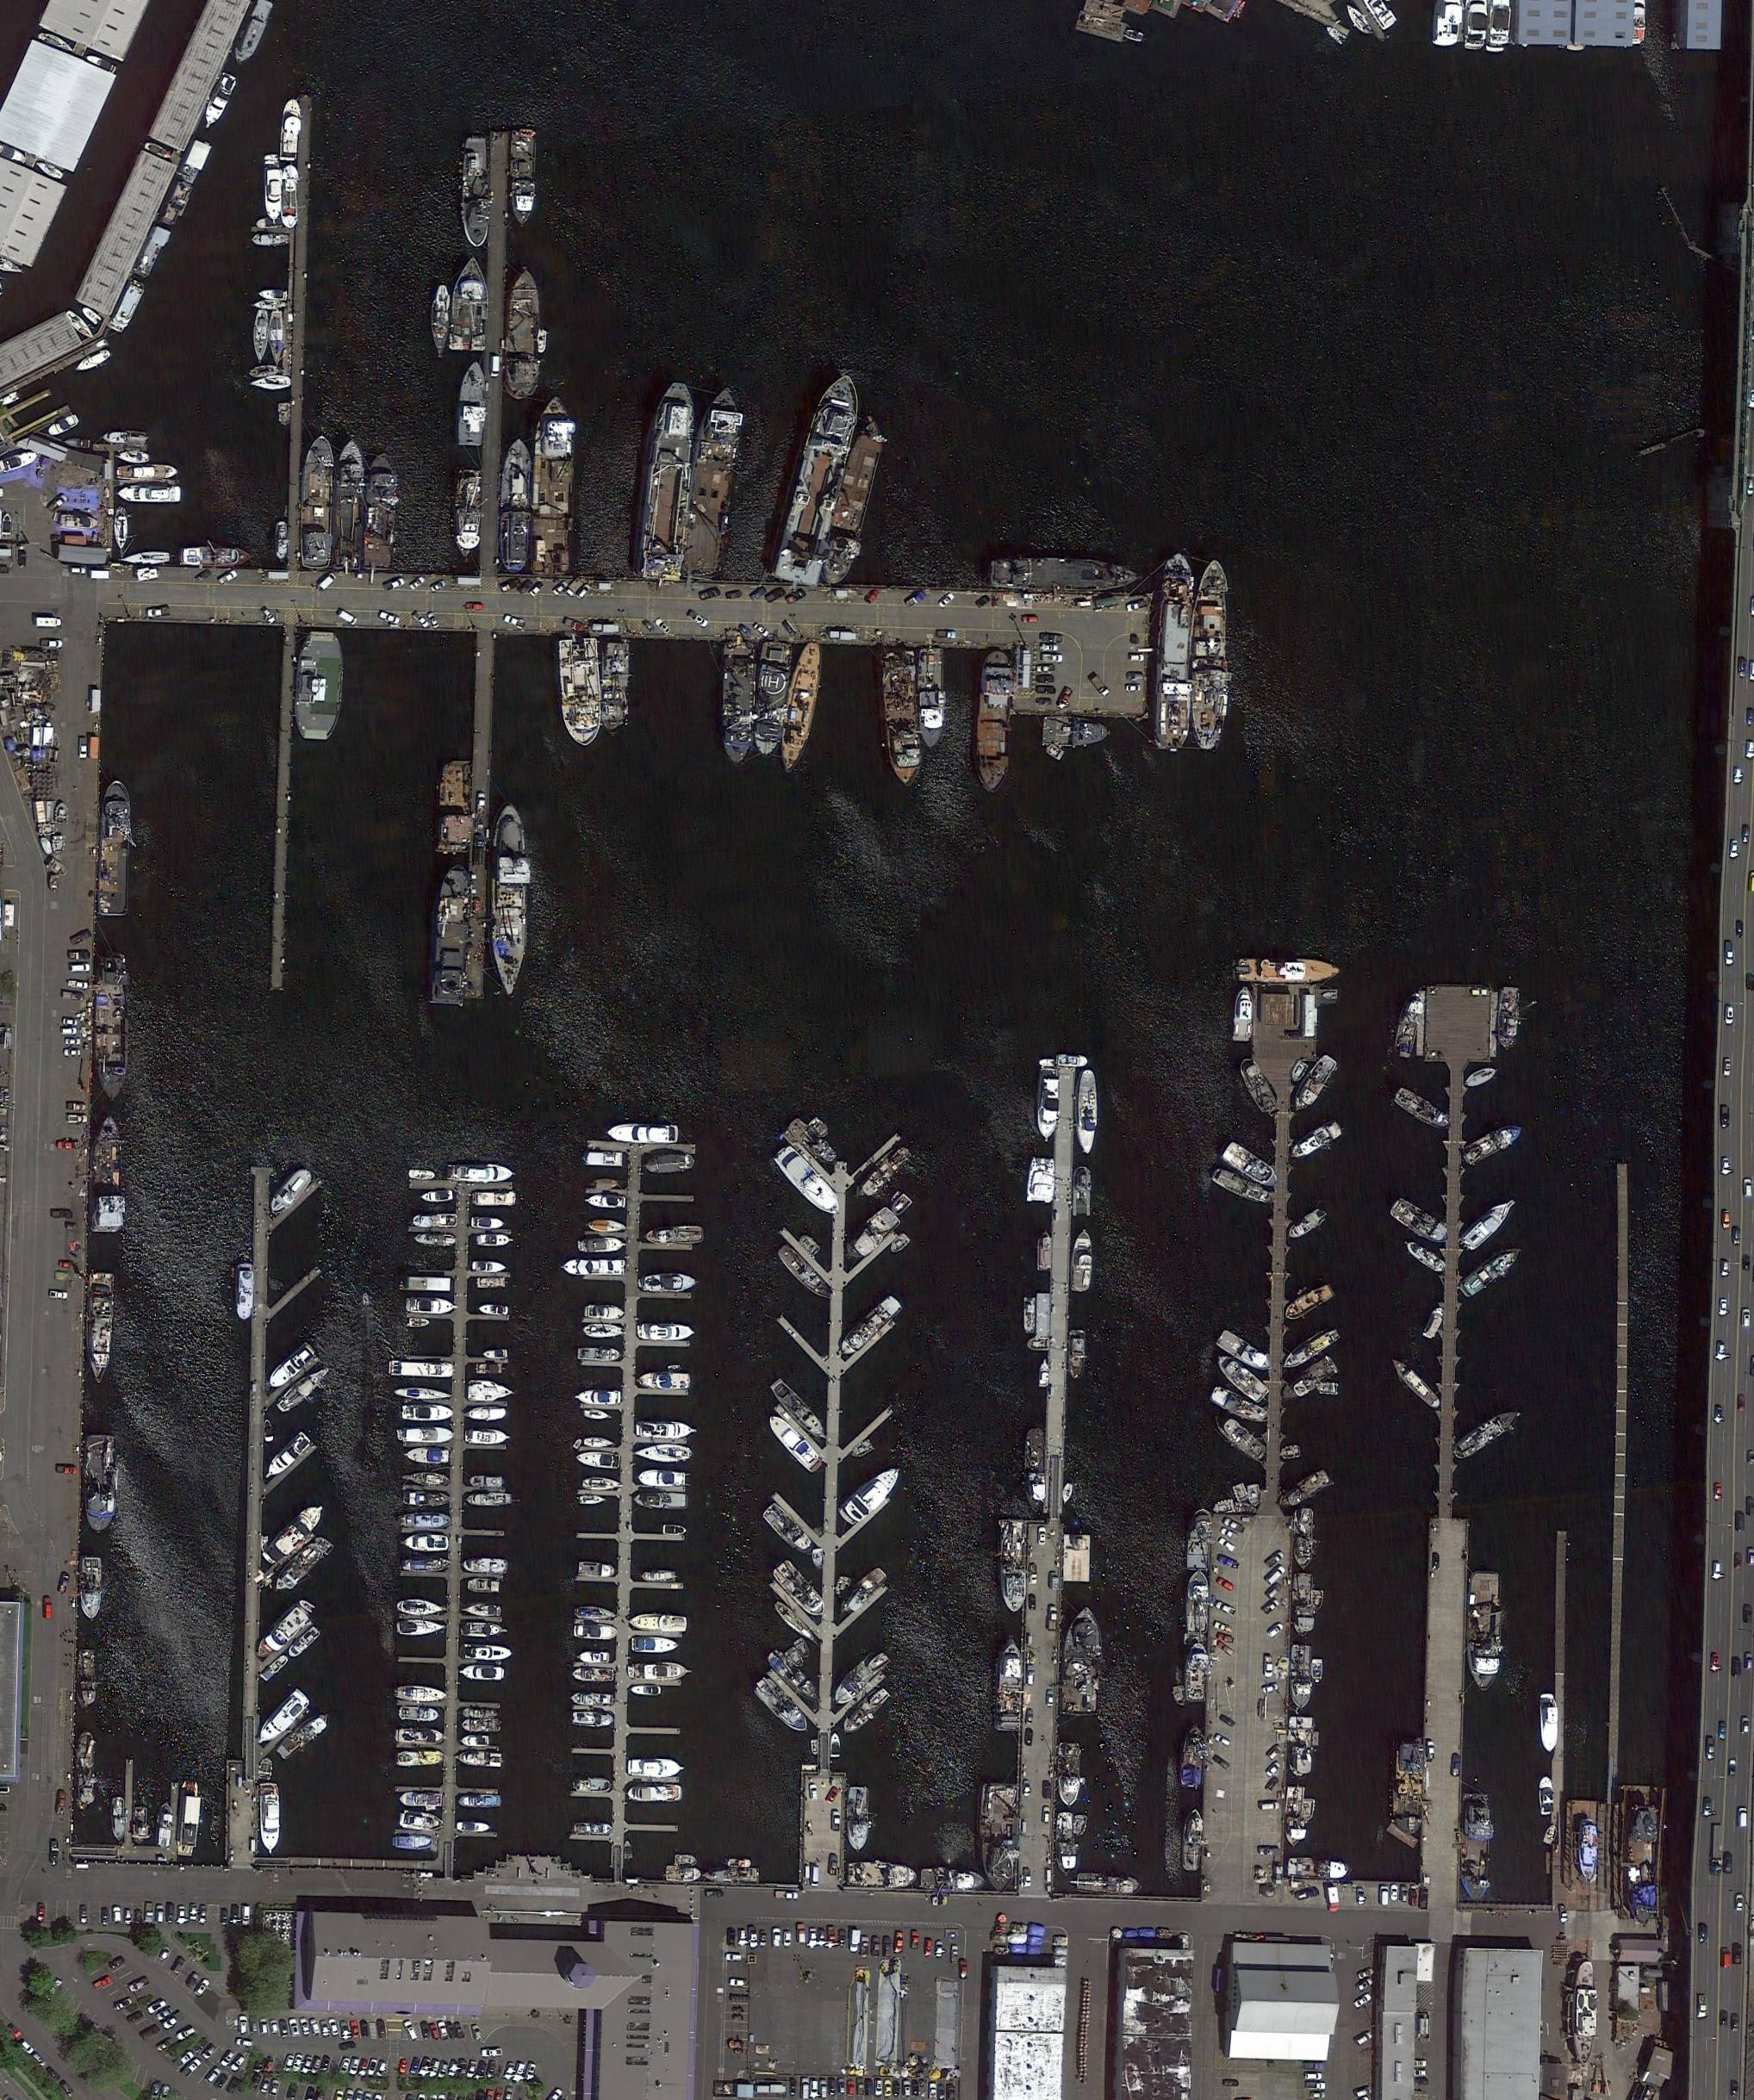harbor: (1197, 978, 1342, 1863), (750, 1108, 916, 1786), (1389, 984, 1503, 1863), (571, 1135, 695, 1859), (387, 1176, 510, 1852), (222, 1165, 326, 1845), (1012, 1053, 1080, 1882), (236, 94, 312, 569), (473, 133, 515, 572), (267, 624, 304, 991), (1607, 1163, 1628, 1786), (464, 631, 499, 996), (1552, 1531, 1567, 1797)
ship: (771, 366, 869, 591), (674, 384, 750, 579), (815, 412, 892, 591), (635, 380, 700, 581), (529, 394, 576, 576), (1187, 555, 1229, 753), (490, 802, 531, 999), (1154, 551, 1192, 752), (773, 638, 829, 776), (880, 647, 927, 792), (428, 867, 473, 1006), (770, 1141, 846, 1223), (990, 555, 1143, 595), (291, 631, 346, 743), (974, 649, 1014, 797), (747, 640, 794, 760), (92, 951, 129, 1101), (497, 438, 536, 574), (330, 438, 368, 570), (503, 269, 541, 401), (300, 434, 337, 570), (1059, 1606, 1103, 1718), (96, 778, 131, 916), (558, 638, 602, 748), (262, 1498, 330, 1568), (838, 1460, 906, 1530), (768, 1374, 832, 1448), (1450, 1404, 1524, 1465), (836, 1294, 904, 1359), (721, 640, 756, 766), (89, 1116, 126, 1235), (361, 452, 398, 570), (1456, 1242, 1525, 1303), (981, 1783, 1019, 1892), (763, 1645, 826, 1711), (1468, 1570, 1501, 1694), (768, 1558, 831, 1622), (1625, 1805, 1658, 1926), (84, 1273, 119, 1387), (775, 1242, 836, 1306), (750, 1674, 812, 1739), (1387, 1193, 1456, 1251), (449, 258, 490, 351), (831, 1647, 892, 1709), (852, 1142, 913, 1203), (272, 1360, 335, 1420), (1459, 1193, 1518, 1256), (766, 1411, 824, 1476), (251, 1605, 312, 1664), (784, 1115, 845, 1174), (82, 1434, 117, 1535), (841, 1203, 901, 1263), (253, 1688, 311, 1749), (274, 1706, 335, 1763), (761, 1500, 819, 1561), (1459, 1793, 1490, 1903), (1288, 1050, 1339, 1118), (1220, 1139, 1283, 1193), (1391, 1085, 1457, 1135), (269, 1540, 326, 1598), (461, 138, 490, 249), (1389, 1353, 1443, 1415), (1278, 1353, 1340, 1406), (1393, 1742, 1426, 1838), (1215, 1327, 1278, 1378), (1279, 1324, 1342, 1374), (1461, 1120, 1527, 1167), (1215, 1350, 1271, 1406), (508, 131, 539, 228), (1236, 958, 1344, 985), (456, 358, 489, 448), (1211, 1165, 1278, 1210), (1209, 1383, 1274, 1428), (916, 647, 944, 752), (836, 1565, 888, 1620), (993, 1634, 1023, 1732), (1236, 1053, 1281, 1116), (839, 1685, 892, 1739), (600, 642, 630, 736), (771, 1599, 824, 1652), (454, 469, 483, 560), (265, 1343, 318, 1394), (262, 1432, 312, 1484), (267, 1165, 316, 1219), (1000, 1519, 1028, 1613), (1288, 1118, 1344, 1165), (199, 70, 239, 133), (1278, 1469, 1332, 1512), (1393, 991, 1426, 1060), (1222, 1416, 1269, 1463), (1044, 717, 1113, 748), (1283, 1282, 1335, 1324), (1023, 1427, 1045, 1514), (1075, 1069, 1098, 1155), (73, 1730, 96, 1814), (848, 1863, 918, 1889), (1401, 1237, 1447, 1277), (258, 1783, 281, 1856), (1286, 1716, 1312, 1779), (607, 1122, 679, 1144), (1286, 1858, 1353, 1882), (1077, 1872, 1143, 1896), (1056, 1741, 1080, 1807), (79, 1556, 103, 1622), (1496, 985, 1520, 1052), (1070, 1228, 1094, 1294), (846, 1786, 871, 1852), (1183, 1643, 1209, 1704), (1180, 1727, 1206, 1788), (1290, 1573, 1314, 1638), (1288, 1645, 1312, 1709), (1187, 1509, 1213, 1568), (1286, 1205, 1328, 1242), (922, 1868, 988, 1891), (1024, 1156, 1056, 1203), (1038, 1066, 1058, 1142), (1187, 1570, 1209, 1634), (1182, 1809, 1204, 1872), (279, 98, 300, 164), (1292, 1509, 1314, 1570), (1056, 1812, 1077, 1877), (635, 1420, 700, 1441), (447, 1165, 517, 1184), (1285, 1786, 1305, 1849), (75, 1648, 96, 1711), (632, 1442, 695, 1463), (628, 1756, 686, 1779), (286, 1626, 321, 1662), (61, 309, 98, 344), (641, 1273, 700, 1294), (1232, 985, 1253, 1043), (73, 347, 113, 377), (1539, 1692, 1559, 1753), (637, 1324, 698, 1343), (703, 1865, 759, 1885), (634, 1662, 693, 1681), (562, 1259, 627, 1277), (281, 164, 298, 228), (1579, 1819, 1597, 1884), (646, 1226, 703, 1245), (630, 1613, 688, 1633), (265, 153, 281, 223), (117, 464, 180, 481), (119, 485, 182, 502), (468, 1380, 515, 1402), (644, 1155, 695, 1176), (405, 1298, 459, 1317), (237, 1263, 255, 1322), (1463, 1064, 1499, 1092), (634, 1493, 689, 1510), (1072, 1167, 1091, 1217), (401, 1404, 456, 1422), (253, 310, 271, 365), (400, 1512, 452, 1530), (403, 1427, 456, 1444), (396, 1685, 449, 1702), (45, 413, 80, 440), (398, 1619, 449, 1636), (639, 1373, 689, 1390), (260, 1653, 290, 1683), (628, 1786, 684, 1802), (248, 373, 293, 392), (574, 1451, 620, 1470), (464, 1643, 513, 1660), (1068, 1331, 1086, 1380), (269, 310, 284, 365), (401, 1812, 445, 1831), (462, 1558, 510, 1575), (155, 1802, 173, 1849), (632, 1636, 679, 1653), (396, 1599, 447, 1615), (396, 1749, 447, 1765), (466, 1428, 511, 1446), (461, 1622, 510, 1638), (403, 1490, 452, 1505), (396, 1728, 445, 1744), (405, 1448, 449, 1465), (400, 1791, 443, 1809), (403, 1470, 450, 1486), (579, 1237, 627, 1252), (639, 1470, 686, 1486), (461, 1664, 503, 1681), (394, 1388, 454, 1401), (405, 1535, 450, 1551), (110, 1797, 126, 1842), (572, 1624, 618, 1640), (576, 1390, 621, 1406), (576, 1347, 621, 1362), (574, 1711, 614, 1728), (572, 1776, 613, 1793), (457, 1751, 501, 1767), (403, 1558, 452, 1572), (464, 1493, 513, 1507), (464, 1406, 506, 1422), (1037, 1230, 1052, 1272), (581, 1476, 623, 1491), (583, 1324, 625, 1340), (579, 1561, 616, 1578), (412, 1233, 457, 1247), (412, 1214, 457, 1228), (586, 1195, 627, 1210), (462, 1718, 503, 1734), (585, 1305, 625, 1320), (1538, 1776, 1553, 1816), (459, 1795, 503, 1809), (571, 1692, 614, 1706), (574, 1606, 618, 1620), (667, 1865, 702, 1882), (393, 1835, 435, 1849), (133, 1807, 147, 1847), (400, 1708, 440, 1722), (572, 1667, 613, 1681), (574, 1823, 614, 1837), (590, 1219, 628, 1233), (469, 1578, 501, 1594), (471, 1259, 506, 1273), (80, 305, 103, 326), (462, 1605, 501, 1617), (476, 1235, 515, 1247), (421, 1190, 454, 1203), (117, 450, 150, 464), (630, 1683, 661, 1697), (1058, 1053, 1089, 1067), (641, 1570, 675, 1582), (407, 1169, 436, 1183), (63, 436, 92, 450), (579, 1650, 609, 1664), (469, 1476, 503, 1488), (476, 1305, 510, 1317), (457, 1821, 490, 1833), (473, 1217, 504, 1230), (101, 431, 127, 445), (585, 1437, 614, 1449), (461, 1735, 489, 1748), (583, 1409, 611, 1422), (829, 1734, 841, 1758), (579, 1495, 607, 1505), (675, 1854, 698, 1866), (483, 1348, 508, 1359), (663, 1526, 686, 1537)
